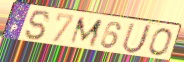6: (100, 21, 123, 50)
7: (52, 12, 77, 45)
M: (68, 17, 105, 49)
O: (147, 27, 173, 57)
S: (24, 9, 52, 41)
U: (120, 22, 154, 55)
